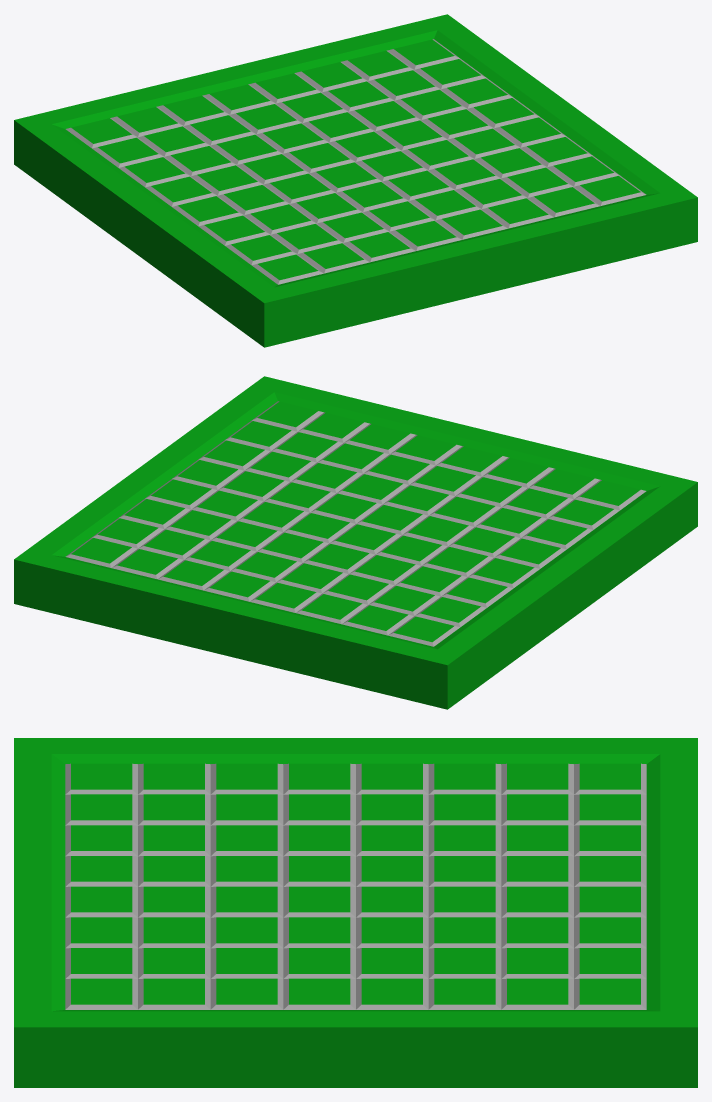
File: board.obj
The picture shows the model from 3 angles, top to bottom: view 1: azimuth 30°, elevation 25°; view 2: azimuth 150°, elevation 25°; view 3: azimuth 270°, elevation 25°; orthographic projection. The views are drawn at different scales.
Parts seen in each view (by area): view 1: Cube.002, Cube.003, Cube, Cube.001; view 2: Cube.002, Cube, Cube.003, Cube.001; view 3: Cube.002, Cube.003, Cube, Cube.001.
Part boxes in pixels (x1,y1,x2,y2): Cube.002: (14, 14, 697, 347); Cube.003: (71, 51, 640, 268); Cube: (98, 39, 613, 280); Cube.001: (65, 39, 646, 284); Cube.002: (14, 376, 697, 709); Cube: (71, 413, 640, 630); Cube.003: (98, 401, 613, 642); Cube.001: (65, 401, 646, 646); Cube.002: (14, 738, 697, 1087); Cube.003: (71, 763, 640, 1004); Cube: (71, 763, 640, 1004); Cube.001: (65, 763, 646, 1009).
Bounding box in the file's own units: 6 × 0.5879 × 6.
